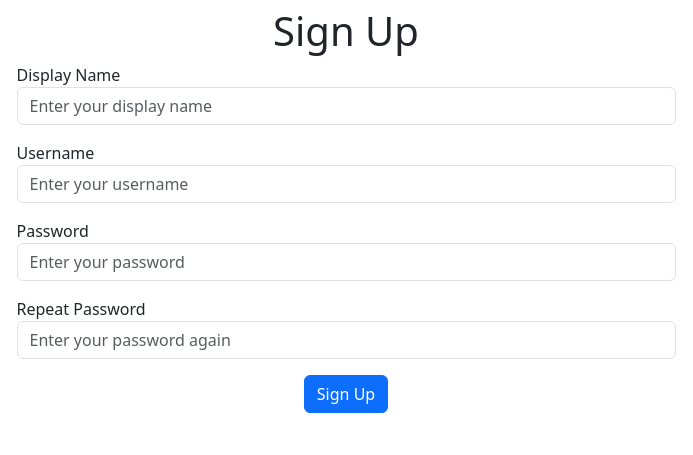
Signup › Interactions › disables the signup button when password does not match to password repeat
The image size is (693, 455).
Type "my-display-name" into the field with placeholder "Enter your display name" at point(346, 106), box [16,87,676,125]
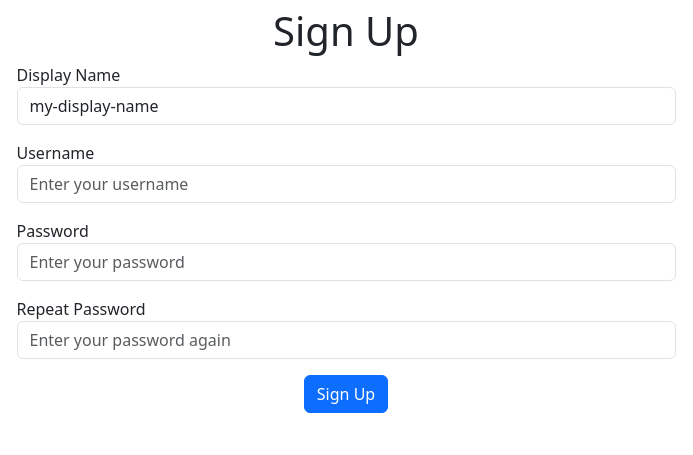
Type "my-username" into the field with placeholder "Enter your username" at point(346, 184), box [16,165,676,203]
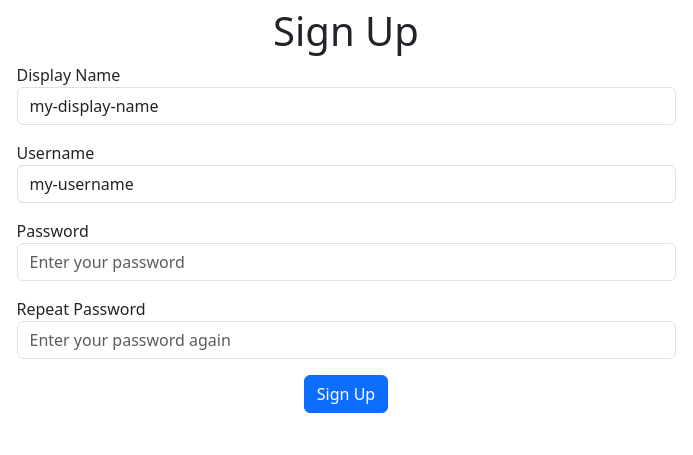
Type "my-password" into the password field with placeholder "Enter your password" at point(346, 262), box [16,243,676,281]
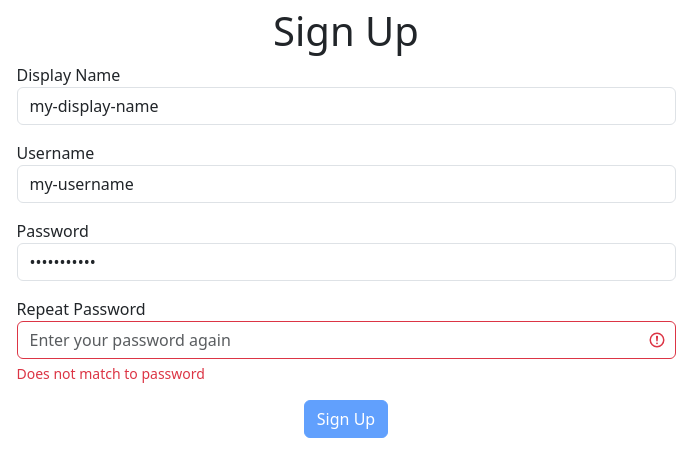
Type "my-password" into the password field with placeholder "Enter your password again" at point(346, 340), box [16,321,676,359]
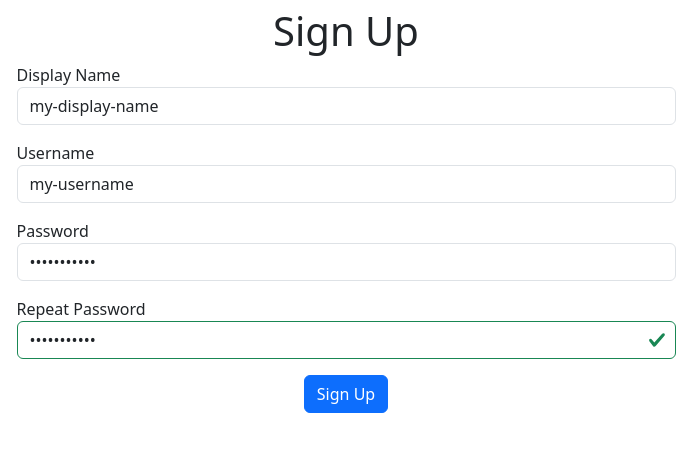
Type "new-pass" into the 1st password field with placeholder "Enter your password" at point(346, 262), box [16,243,676,281]
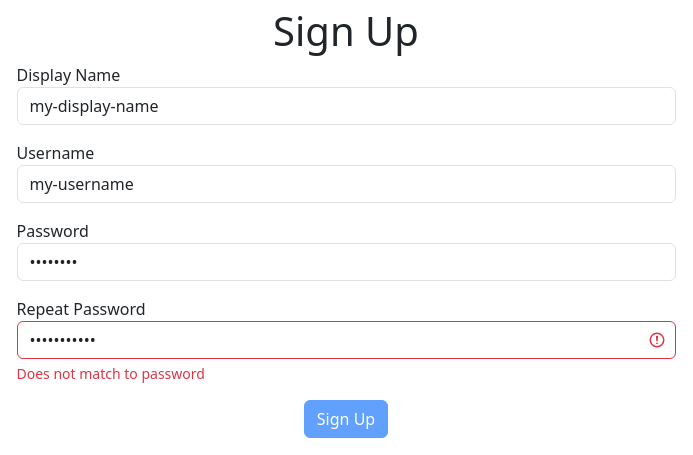
Now the button is disabled, box [304,400,388,438]
